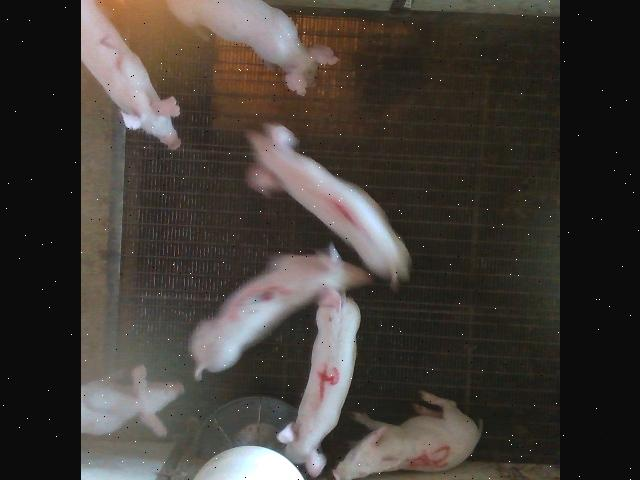pig-1: (246, 124, 409, 285)
pig-2: (82, 0, 180, 149)
pig-3: (189, 245, 371, 380)
pig-4: (276, 291, 359, 476)
pig-5: (332, 391, 481, 480)
